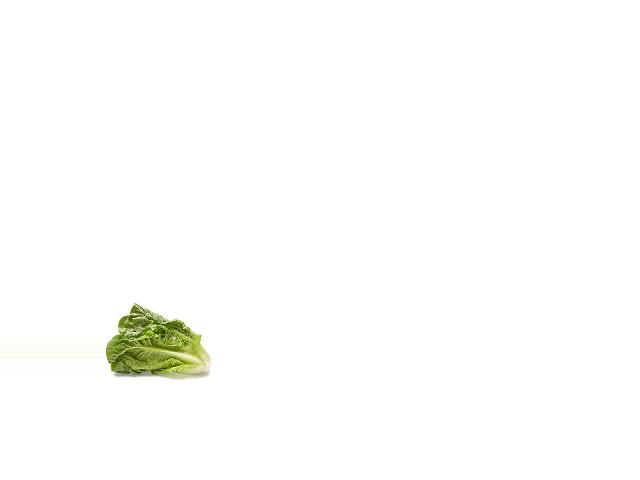lettuce: (105, 303, 215, 391)
